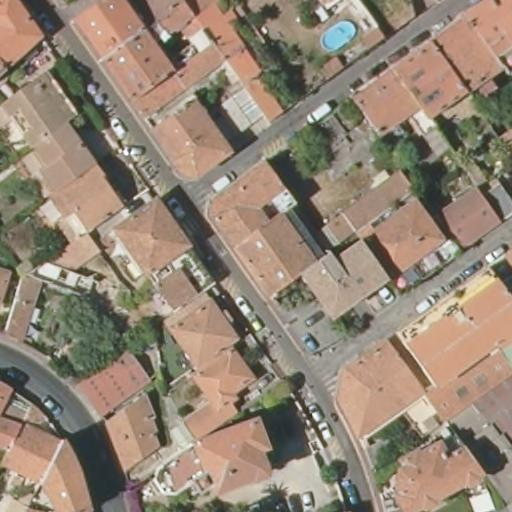pool: (316, 19, 356, 49)
